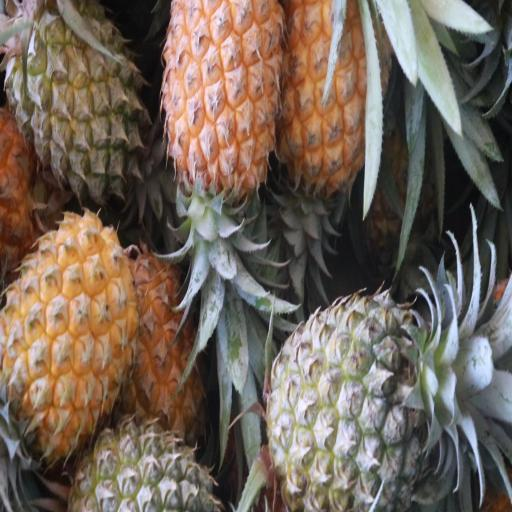------------------------------: (14, 0, 143, 198)
Pineapple - v8 v1: (3, 216, 135, 455), (163, 0, 281, 200), (283, 0, 390, 192), (129, 247, 215, 443)
